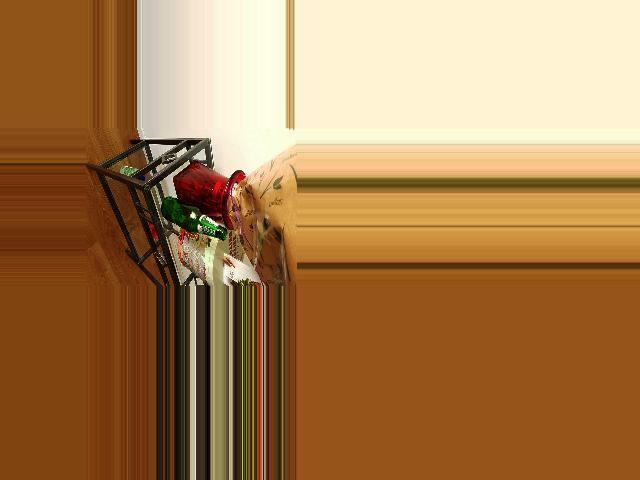beer: (160, 196, 227, 240)
